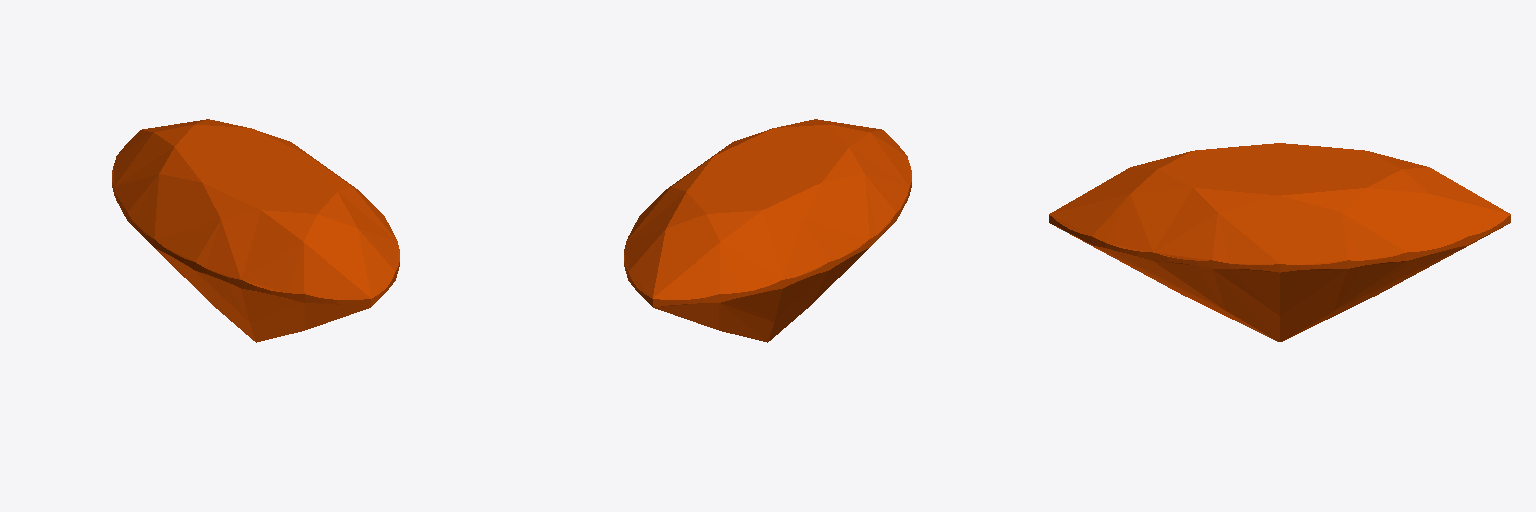
Rendered from Citrine_Low_Poly.obj.
3 renders of one model, left to right at view 1: azimuth 30°, elevation 25°; view 2: azimuth 150°, elevation 25°; view 3: azimuth 270°, elevation 25°, orthographic.
Parts seen in each view (by area): view 1: Citrine_-_Marquise_Cut_dmesh.001; view 2: Citrine_-_Marquise_Cut_dmesh.001; view 3: Citrine_-_Marquise_Cut_dmesh.001.
Part boxes in pixels (x1,y1,x2,y2): Citrine_-_Marquise_Cut_dmesh.001: (112,119,399,342); Citrine_-_Marquise_Cut_dmesh.001: (624,119,911,342); Citrine_-_Marquise_Cut_dmesh.001: (1049,143,1510,341).
Size of the model in its own units: 1.53 by 1.25 by 3.01.